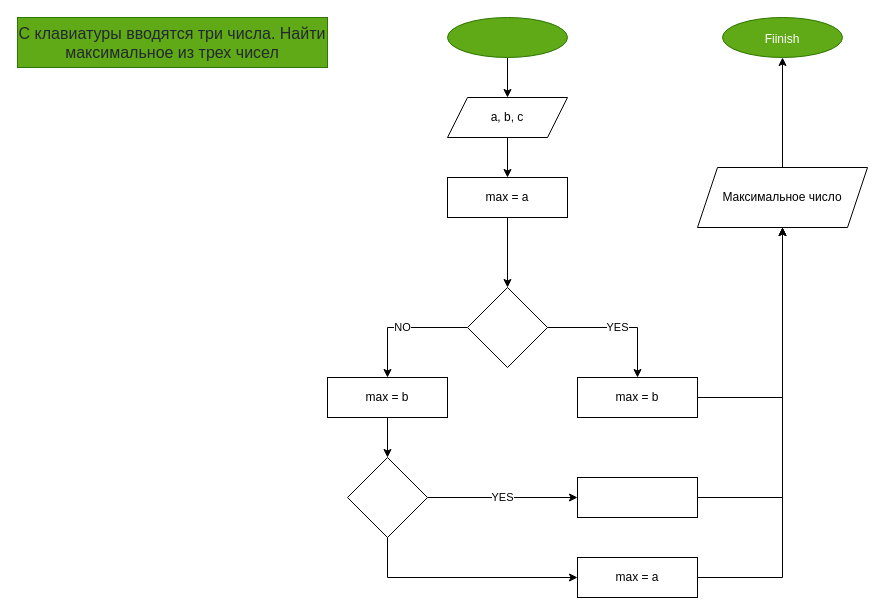
The diagram is 885 pixels wide and 615 high, and some of its shapes have lost their labels. The box of each missing label's shape, as (x1, y1, x2, y2) in pixels:
b > max ?: (466, 286, 548, 368)
c > max ?: (346, 456, 428, 538)
max = c: (576, 476, 698, 518)
Start: (446, 16, 568, 58)
